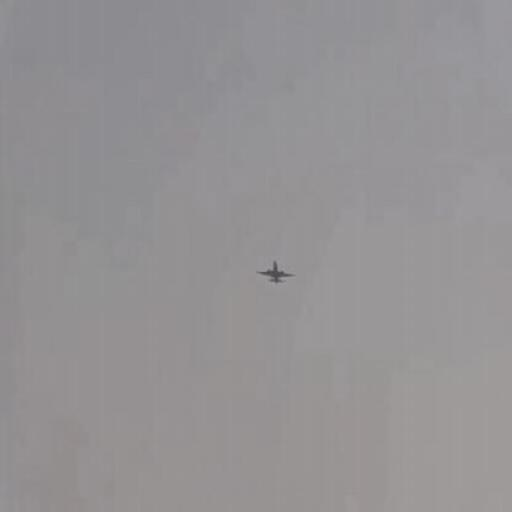aircraft: (254, 261, 296, 283)
